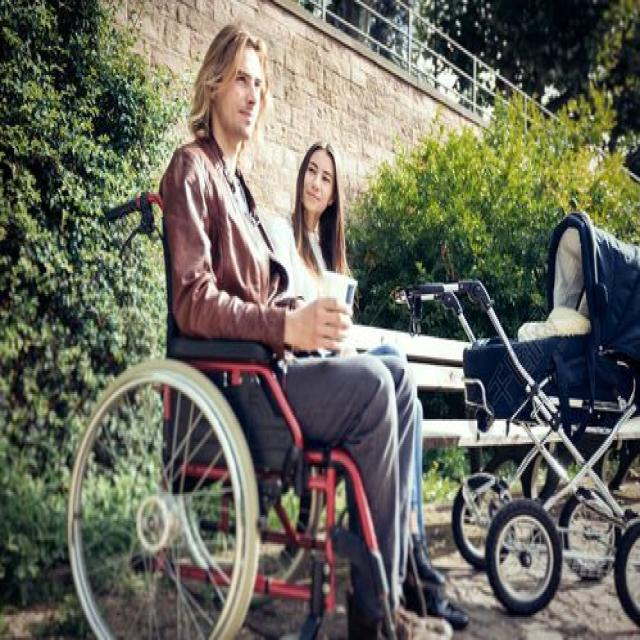wheelchairs: (58, 178, 443, 640)
